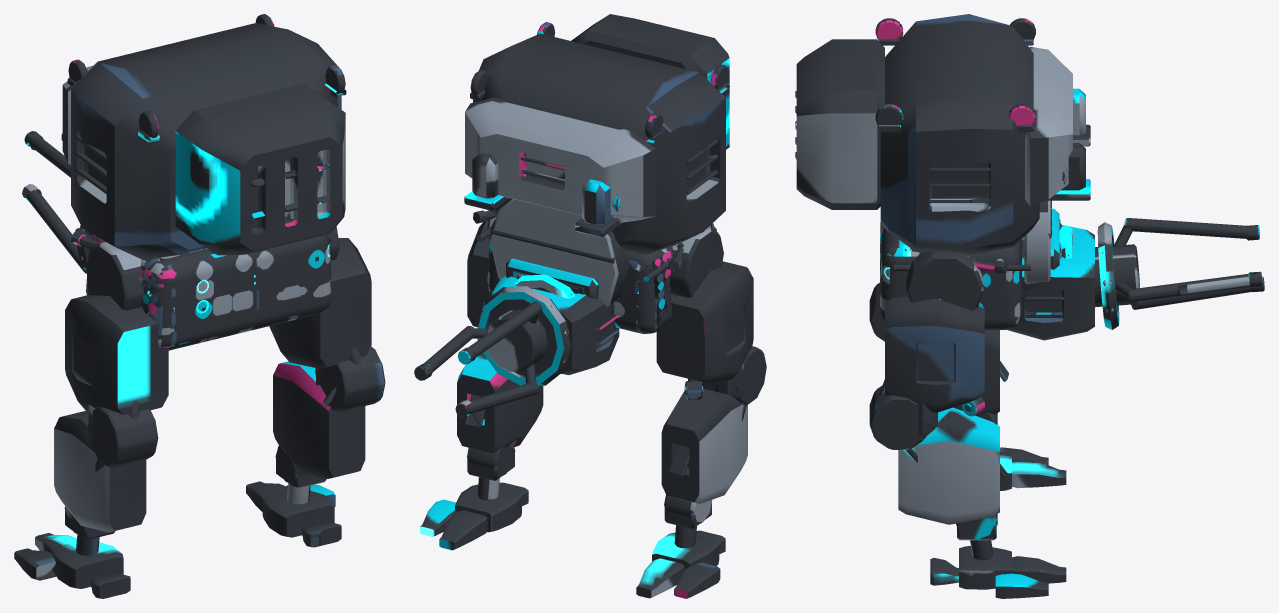
The model's file is ArcLanceWalker_Atlas.fbx.
3 views of the same model, side by side, from view 1: azimuth 30°, elevation 25°; view 2: azimuth 150°, elevation 25°; view 3: azimuth 270°, elevation 25° (orthographic). The views are drawn at different scales.
Visible parts, largest first — view 1: ArcLanceWalker_UnifiedMesh; view 2: ArcLanceWalker_UnifiedMesh; view 3: ArcLanceWalker_UnifiedMesh.
Boxes of the visible parts, left/top/right/bottom form: ArcLanceWalker_UnifiedMesh: left=14, top=14, right=385, bottom=598; ArcLanceWalker_UnifiedMesh: left=414, top=14, right=766, bottom=598; ArcLanceWalker_UnifiedMesh: left=795, top=14, right=1264, bottom=598.
Size of the model in its own units: 149 by 238 by 212.
1 material, 1 textured.
